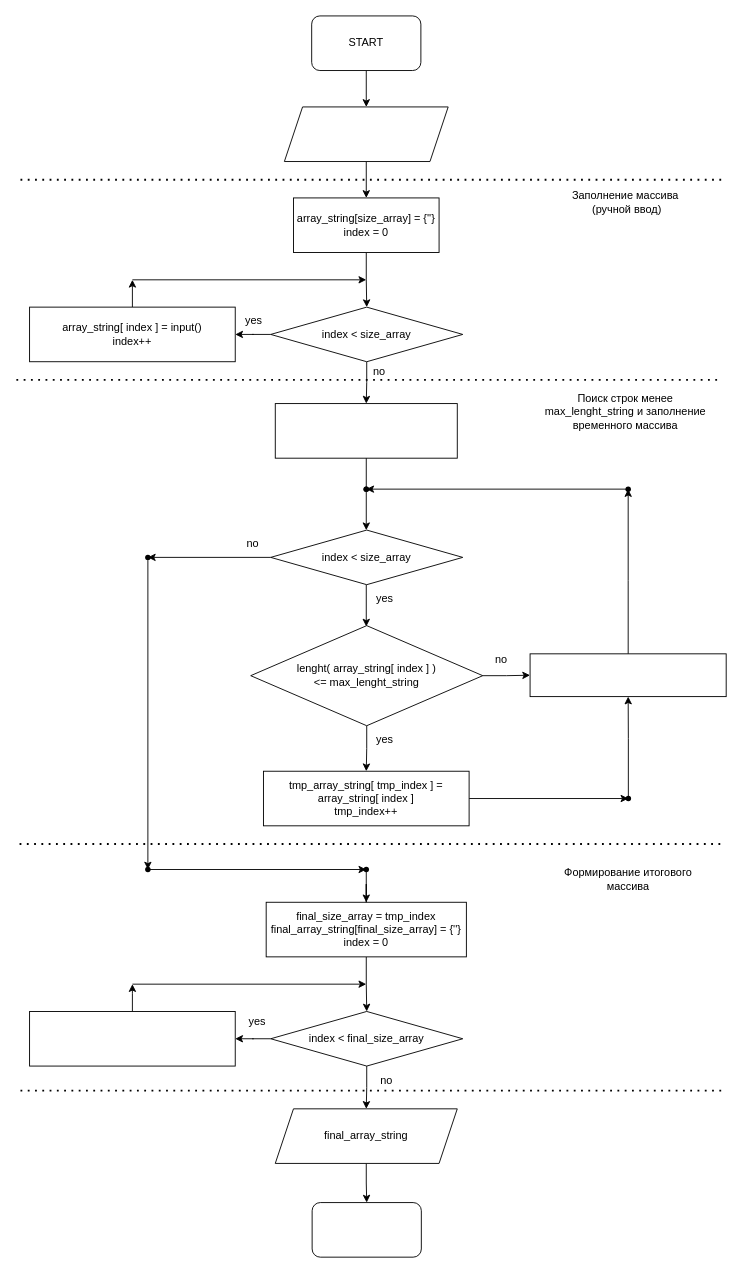
This 743x1273 diagram has some shape labels left out. The box of each missing label's shape, as (x1, y1, x2, y2) in pixels:
final_array_string[ index ] = tmp_array_string[ index ] index++: (29, 1011, 235, 1066)
index++: (529, 653, 726, 697)
size_array max_length_string: (283, 106, 448, 162)
STOP: (311, 1202, 421, 1257)
tmp_array_string[size_array] = {''} index = 0 tmp_index = 0: (274, 403, 457, 458)
